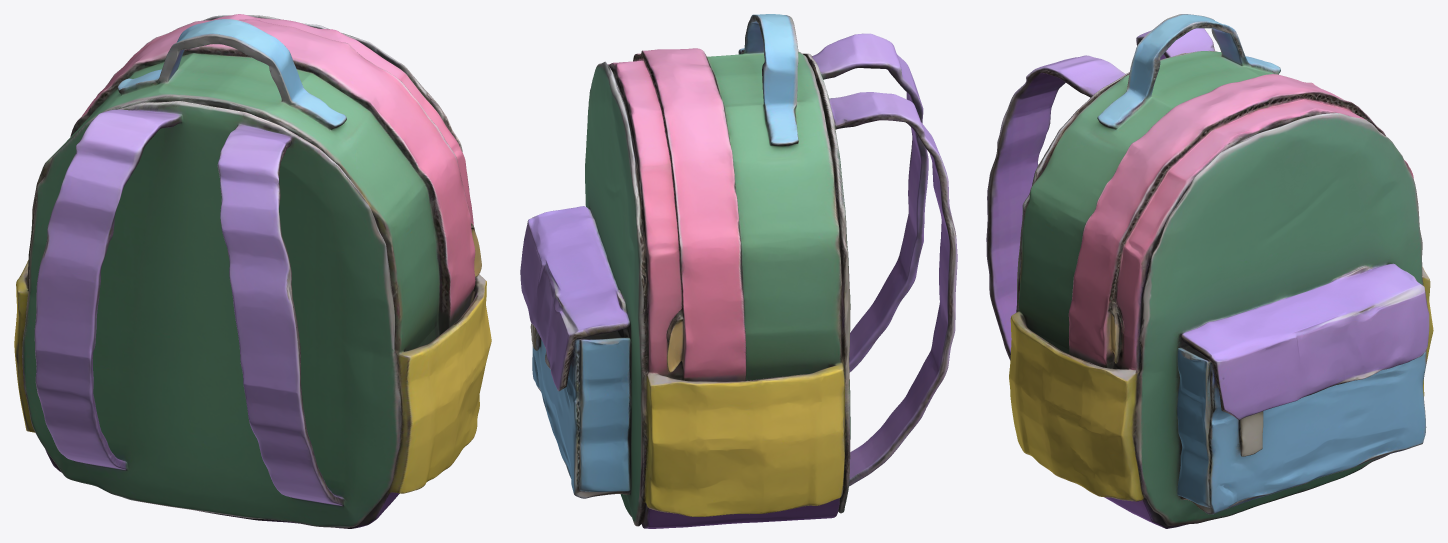
The model's file is mochila 3.glb.
3 views of the same model, side by side, from view 1: azimuth 30°, elevation 25°; view 2: azimuth 150°, elevation 25°; view 3: azimuth 270°, elevation 25° (orthographic). The views are drawn at different scales.
Visible parts, largest first — view 1: vizcom_node_0; view 2: vizcom_node_0; view 3: vizcom_node_0.
Part boxes in pixels (x1,y1,x2,y2): vizcom_node_0: [14, 14, 491, 528]; vizcom_node_0: [520, 14, 957, 528]; vizcom_node_0: [986, 14, 1433, 528].
Size of the model in its own units: 0.4365 by 0.45 by 0.4218.
1 material, 1 textured.
